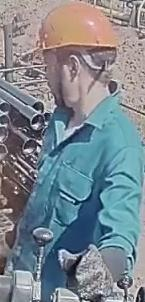gloves: (58, 242, 115, 302)
helmet: (36, 0, 118, 57)
vest: (2, 95, 143, 301)
